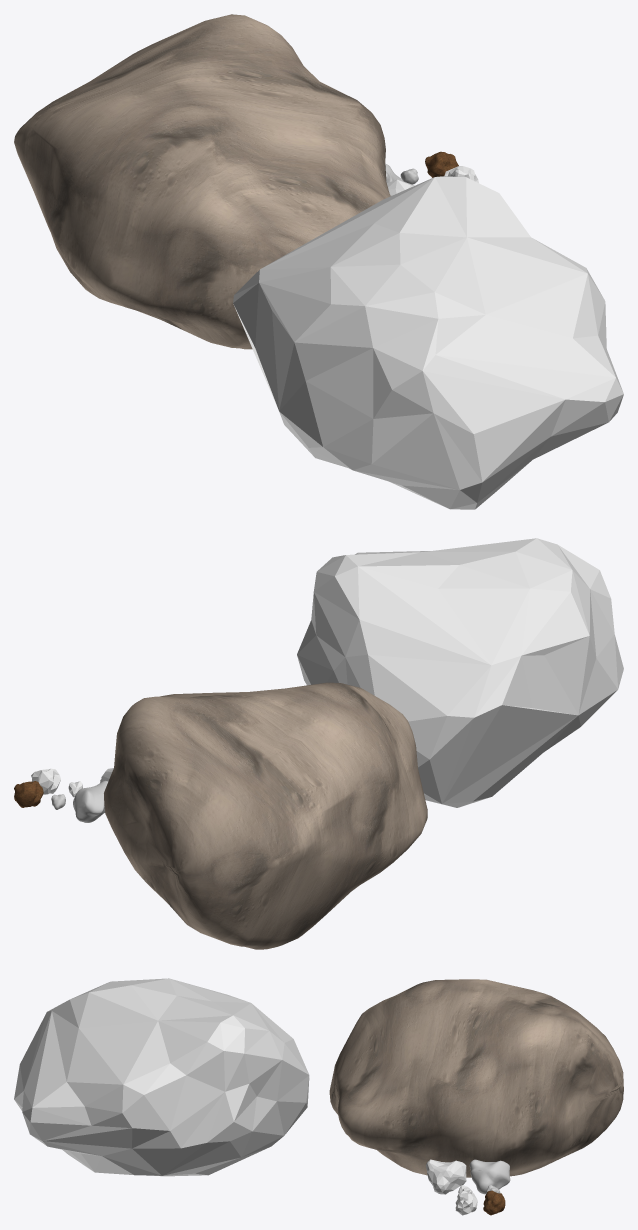
Rendered from asteroids1.dae.
3 views of the same model, one above another, from view 1: azimuth 30°, elevation 25°; view 2: azimuth 150°, elevation 25°; view 3: azimuth 270°, elevation 25° (orthographic). The views are drawn at different scales.
Visible parts, largest first — view 1: asteroid4hull, asteroid4; view 2: asteroid4, asteroid4hull, asteroid3, asteroid2; view 3: asteroid4hull, asteroid4, asteroid3hull, asteroid3, asteroid2, asteroid2hull.
Boxes of the visible parts, box(x1,y1,x2,y2) form: asteroid4hull: box(233, 176, 623, 509); asteroid4: box(14, 14, 390, 349); asteroid4: box(104, 682, 427, 949); asteroid4hull: box(297, 538, 623, 807); asteroid3: box(73, 780, 108, 822); asteroid2: box(14, 781, 43, 807); asteroid4hull: box(14, 978, 309, 1176); asteroid4: box(329, 979, 623, 1177); asteroid3hull: box(426, 1159, 466, 1194); asteroid3: box(469, 1159, 510, 1194); asteroid2: box(483, 1190, 505, 1215); asteroid2hull: box(455, 1191, 477, 1215).
Bounding box in the file's own units: 60.76 × 110 × 36.53.
